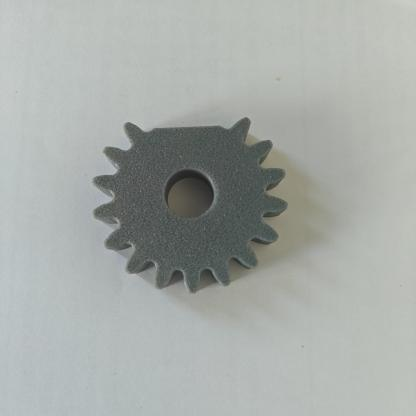defect: (111, 85, 262, 164)
gear: (79, 77, 299, 307)
